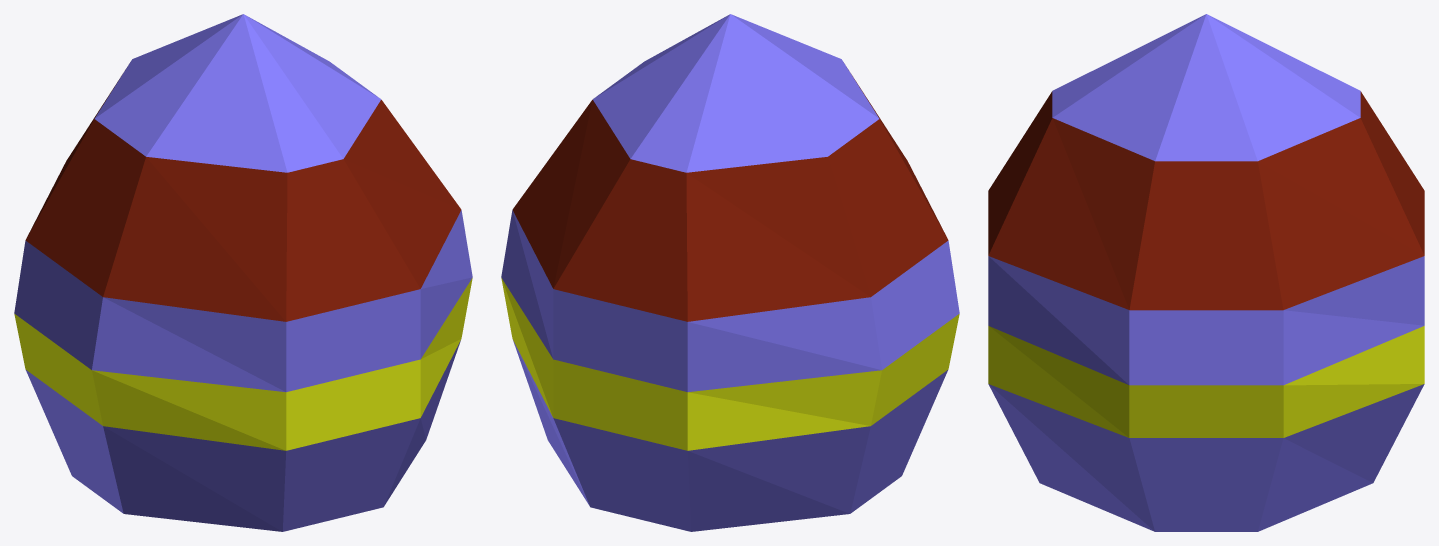
Rendered from inv_easter_egg.obj.
3 views of the same model, side by side, from view 1: azimuth 30°, elevation 25°; view 2: azimuth 150°, elevation 25°; view 3: azimuth 270°, elevation 25° (orthographic).
Bounding box in the file's own units: 0.2656 × 0.3281 × 0.2656.
